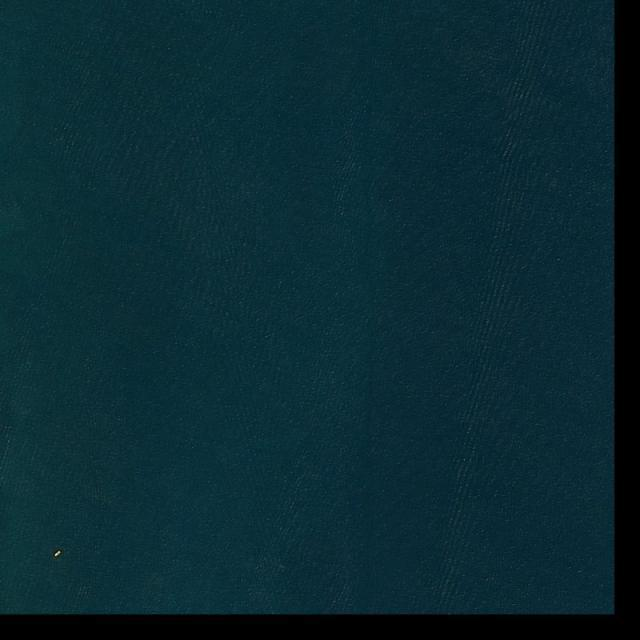ship: (53, 549, 62, 558)
